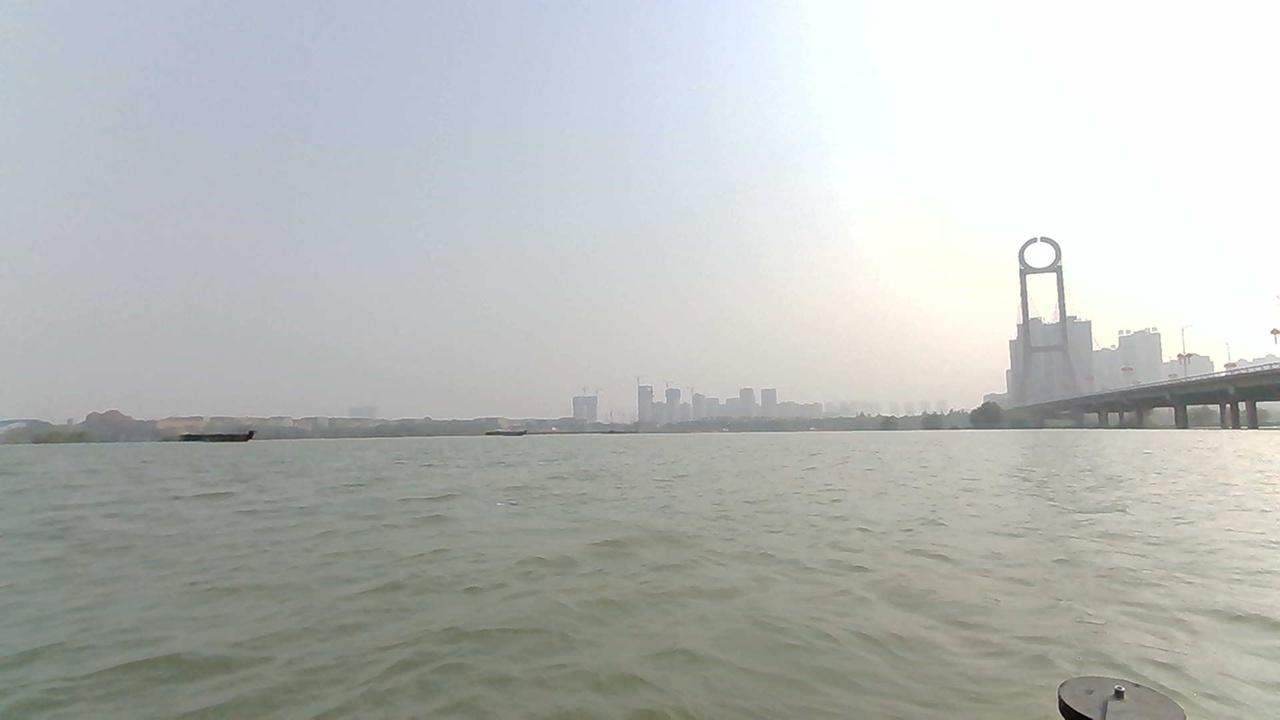bottle: (487, 492, 535, 521)
